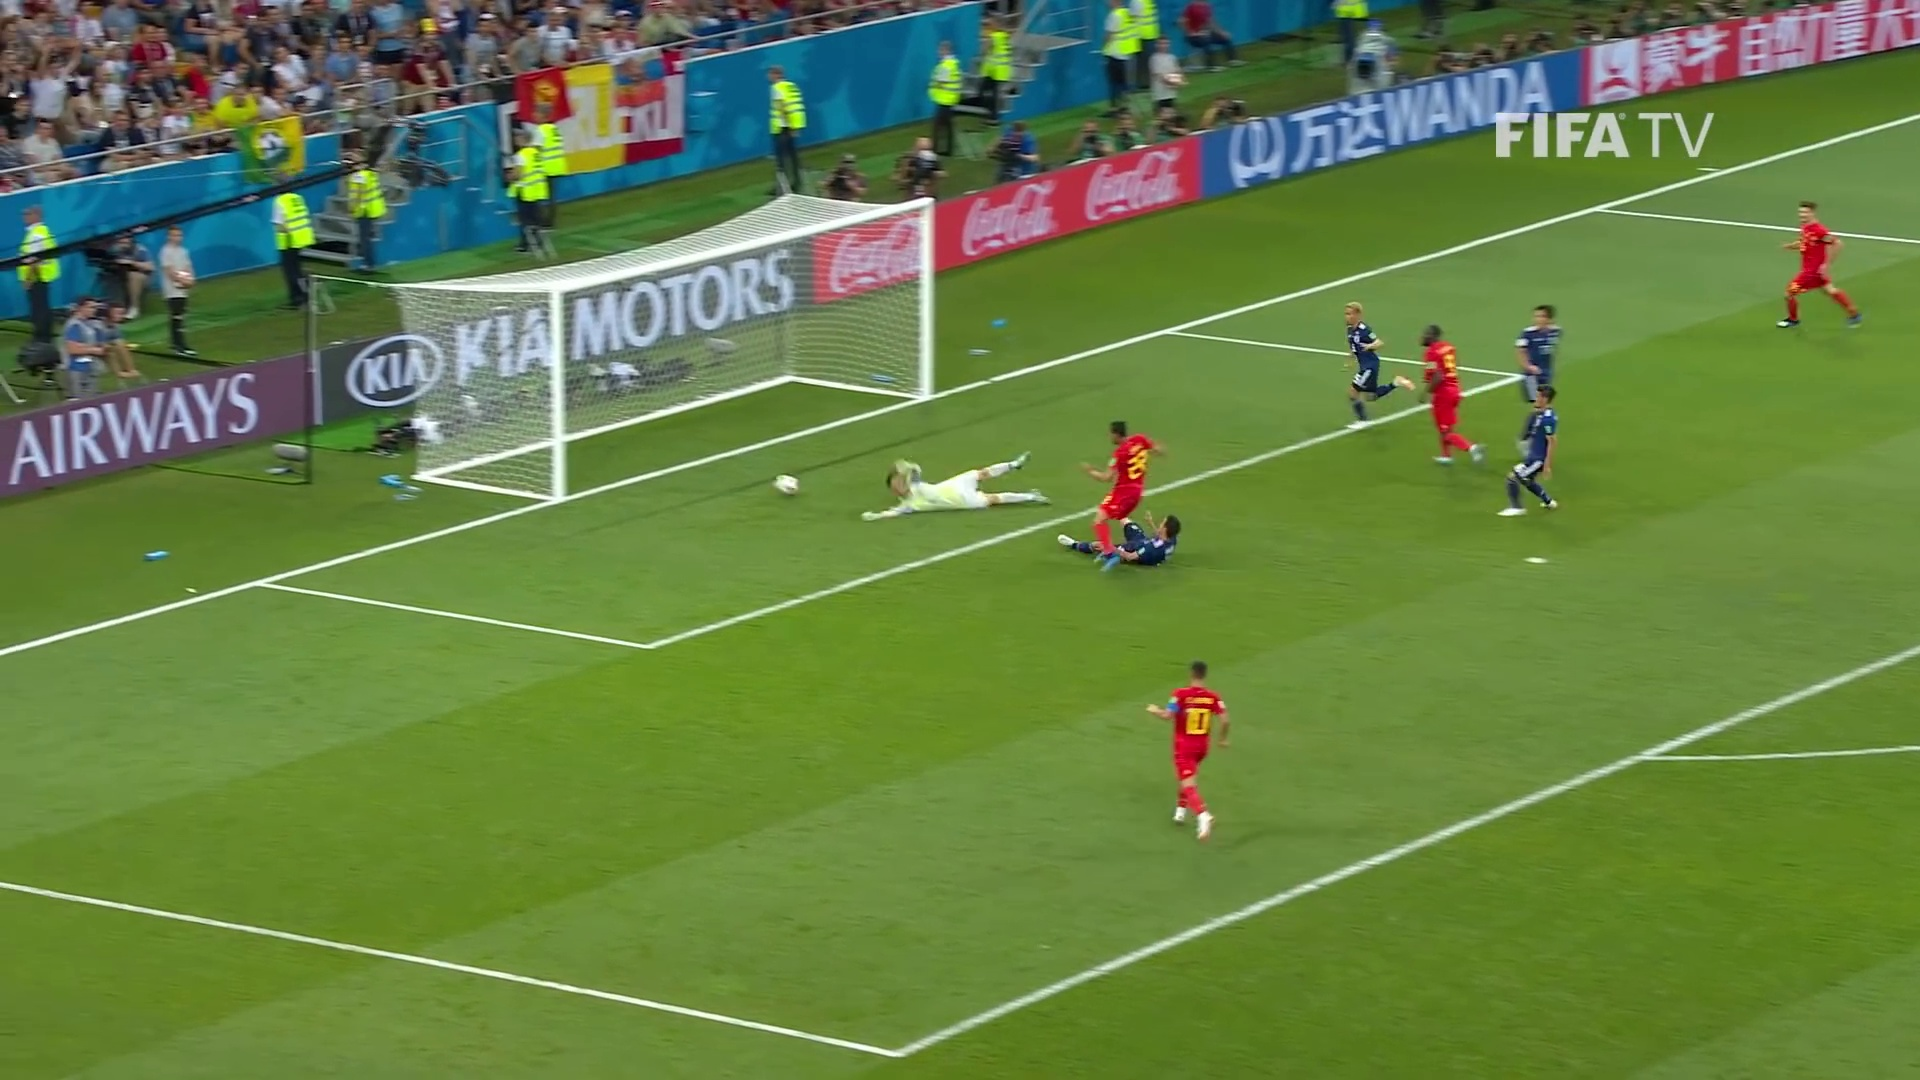ball: (773, 474, 798, 494)
person: (1148, 662, 1227, 842), (865, 457, 1049, 517), (1782, 201, 1864, 329), (1414, 323, 1487, 465), (1086, 423, 1156, 572), (1340, 298, 1412, 428), (1501, 385, 1560, 518), (1060, 516, 1181, 562), (1518, 301, 1564, 404)
